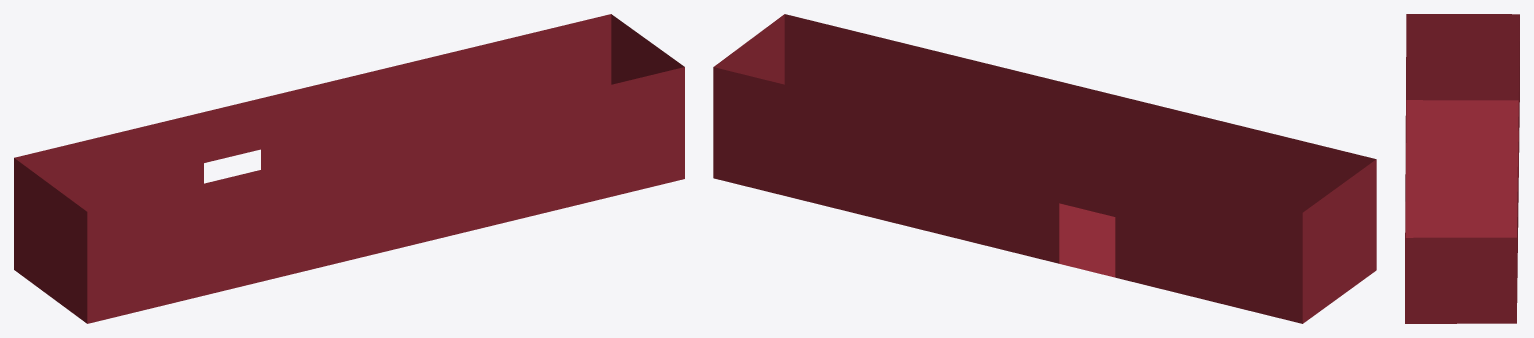
The model's file is room_c.glb.
The picture shows the model from 3 angles, left to right: view 1: azimuth 30°, elevation 25°; view 2: azimuth 150°, elevation 25°; view 3: azimuth 270°, elevation 25°; orthographic projection. The views are drawn at different scales.
Visible parts, largest first — view 1: room_c; view 2: room_c; view 3: room_c.
Part boxes in pixels (<box>): room_c: <box>14,14,684,323</box>; room_c: <box>713,14,1376,323</box>; room_c: <box>1405,14,1519,323</box>.
Size of the model in its own units: 40.68 by 7.3 by 8.81.
